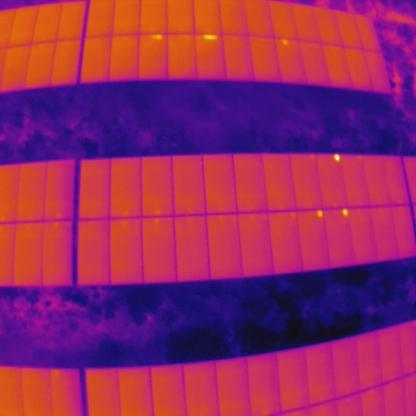anomaly: (201, 28, 219, 45), (147, 31, 164, 43), (314, 207, 326, 221), (339, 206, 351, 220), (333, 150, 343, 165), (280, 37, 289, 47)
